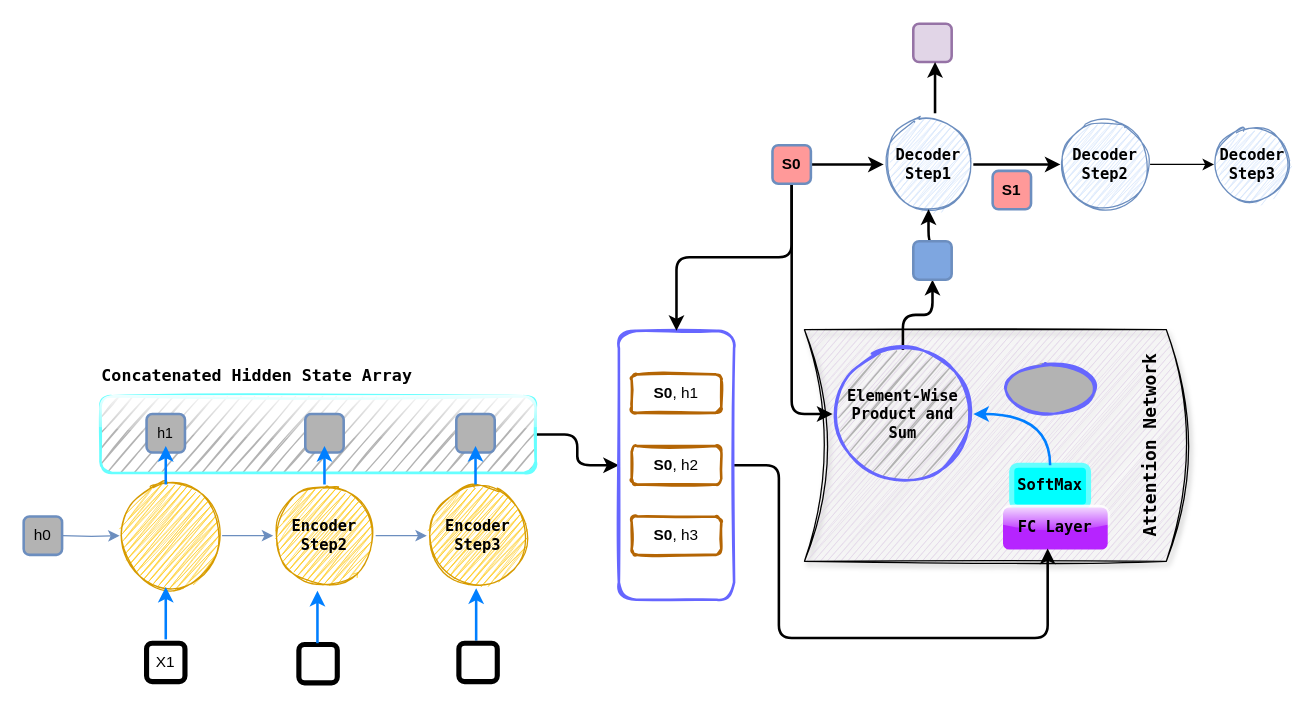
The diagram is 1313 pixels wide and 707 high, and some of its shapes have lost their labels. The shapes that lost their labels are listed below. From the top down, each one's centre as x and y in pixels, then its label:
At [931,42]: "Y1".
At [931,259]: "C1".
At [1049,388]: "a1, a2, a3".
At [323,432]: "h2".
At [474,432]: "h3".
At [170,535]: "Encoder Step1".
At [317,663]: "X2".
At [477,662]: "X3".
